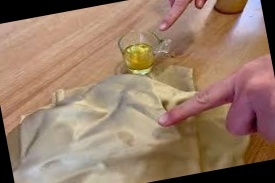oil: (108, 127, 141, 154)
